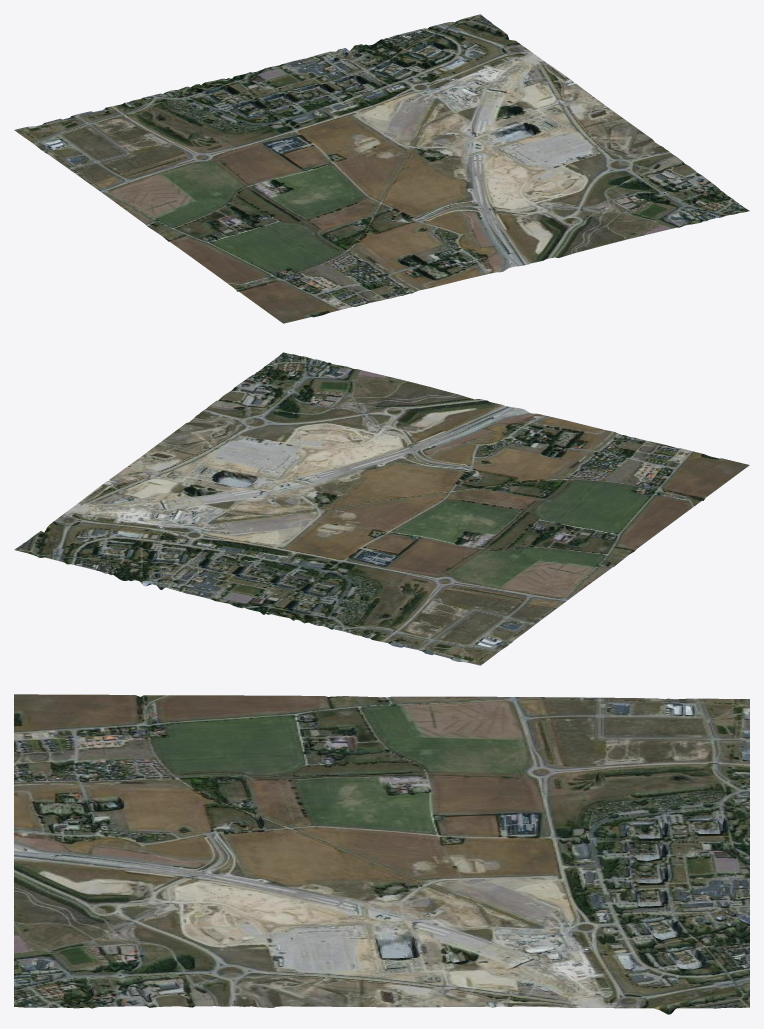
File: map_10_248_424.dae
3 renders of one model, top to bottom at view 1: azimuth 30°, elevation 25°; view 2: azimuth 150°, elevation 25°; view 3: azimuth 270°, elevation 25°, orthographic. The views are drawn at different scales.
Visible parts, largest first — view 1: Ter0; view 2: Ter0; view 3: Ter0.
Part boxes in pixels (left/top/right/bottom): Ter0: left=14, top=14, right=749, bottom=323; Ter0: left=14, top=352, right=749, bottom=665; Ter0: left=14, top=694, right=749, bottom=1014.
Size of the model in its own units: 2044 by 2044 by 81.2.
2 materials, 2 textured.
